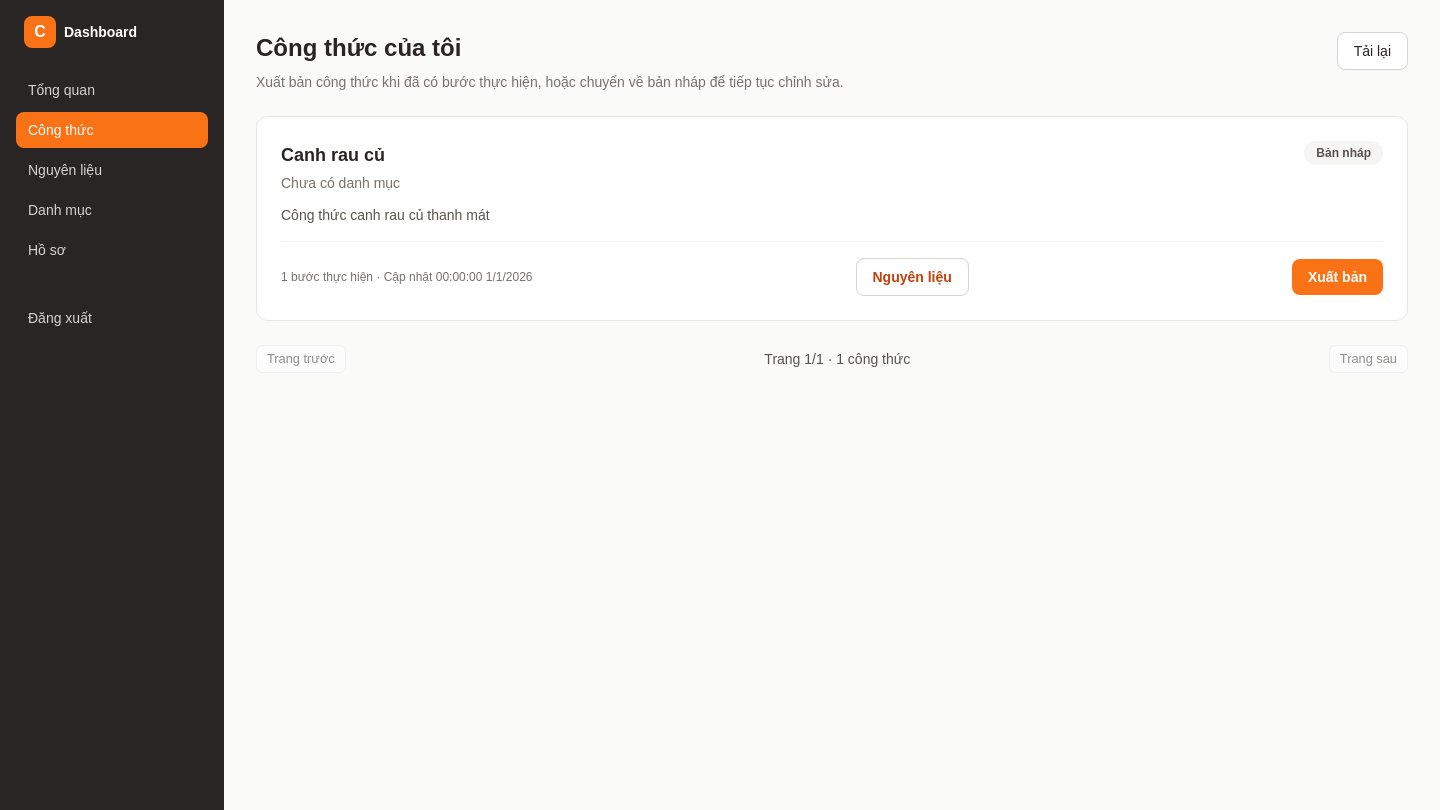
Recipe management through UI and API client › keeps the previous status and shows an error for HTTP 403
This screenshot has width=1440, height=810.
Click the button "Xuất bản": coordinates (1337, 277) [1292,259,1383,295]
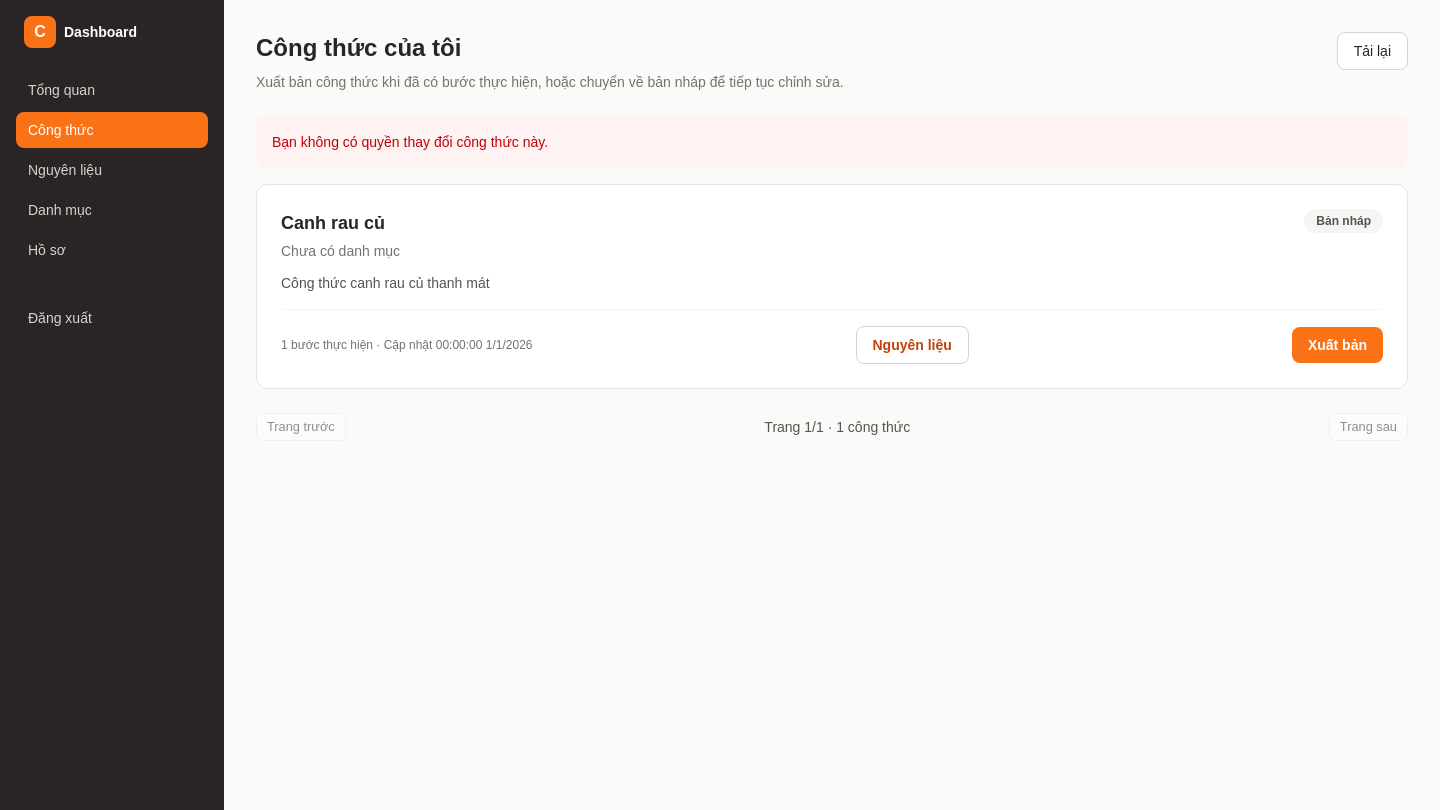
Check: the text "Bản nháp" is shown, box [1304,209,1383,233]
Check: the message "Bạn không có quyền thay đổi công thức này." is not empty, box [256,116,1408,168]
